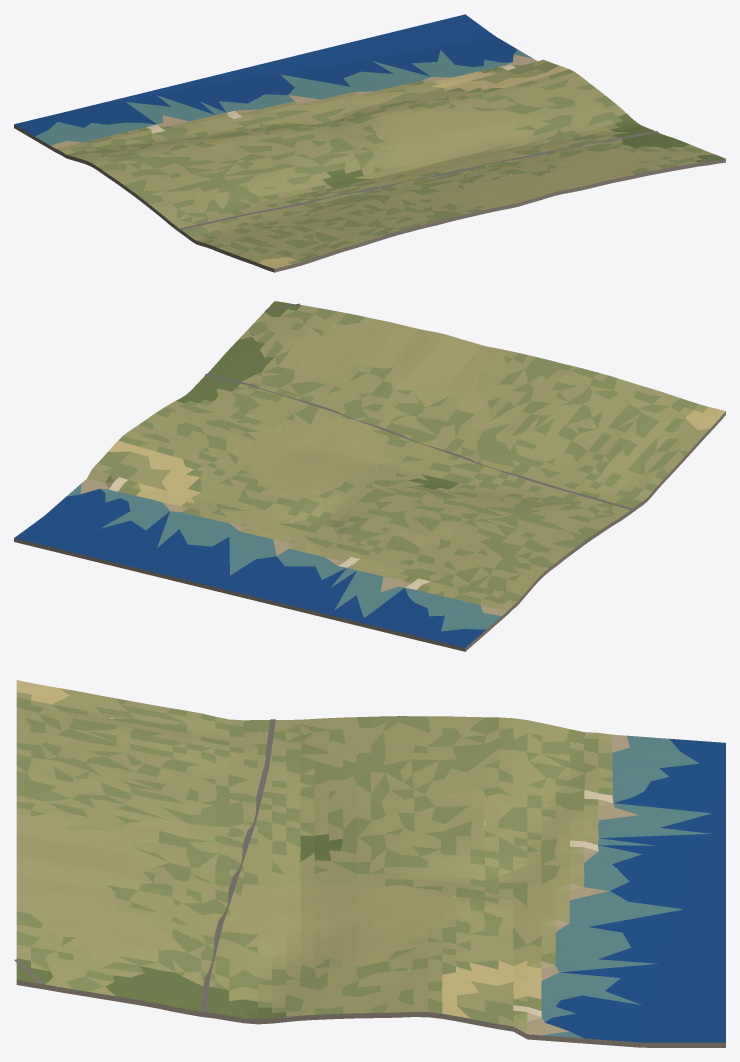
Rendered from parca_+6_+2-uzak.glb.
The picture shows the model from 3 angles, top to bottom: view 1: azimuth 30°, elevation 25°; view 2: azimuth 150°, elevation 25°; view 3: azimuth 270°, elevation 25°; orthographic projection. The views are drawn at different scales.
Visible parts, largest first — view 1: parca_+6_+2_arazi_uzak, parca_+6_+2_yollar_uzak; view 2: parca_+6_+2_arazi_uzak, parca_+6_+2_yollar_uzak; view 3: parca_+6_+2_arazi_uzak, parca_+6_+2_yollar_uzak.
Boxes of the visible parts, x1,y1,x2,y2 form: parca_+6_+2_arazi_uzak: (14,14,725,272); parca_+6_+2_yollar_uzak: (179,131,717,229); parca_+6_+2_arazi_uzak: (14,301,725,651); parca_+6_+2_yollar_uzak: (204,303,633,510); parca_+6_+2_arazi_uzak: (16,680,725,1047); parca_+6_+2_yollar_uzak: (14,719,275,1011).
Size of the model in its own units: 1004 by 124 by 1004.
